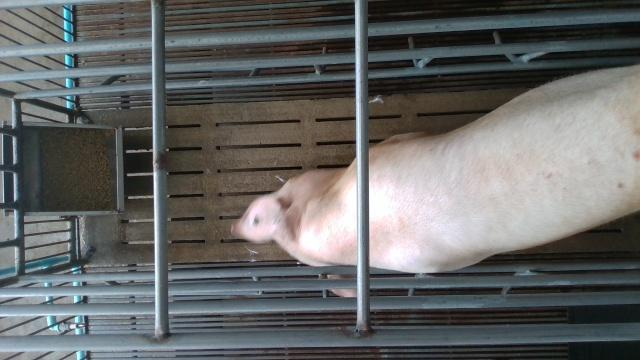sow-stand: (229, 65, 640, 297)
